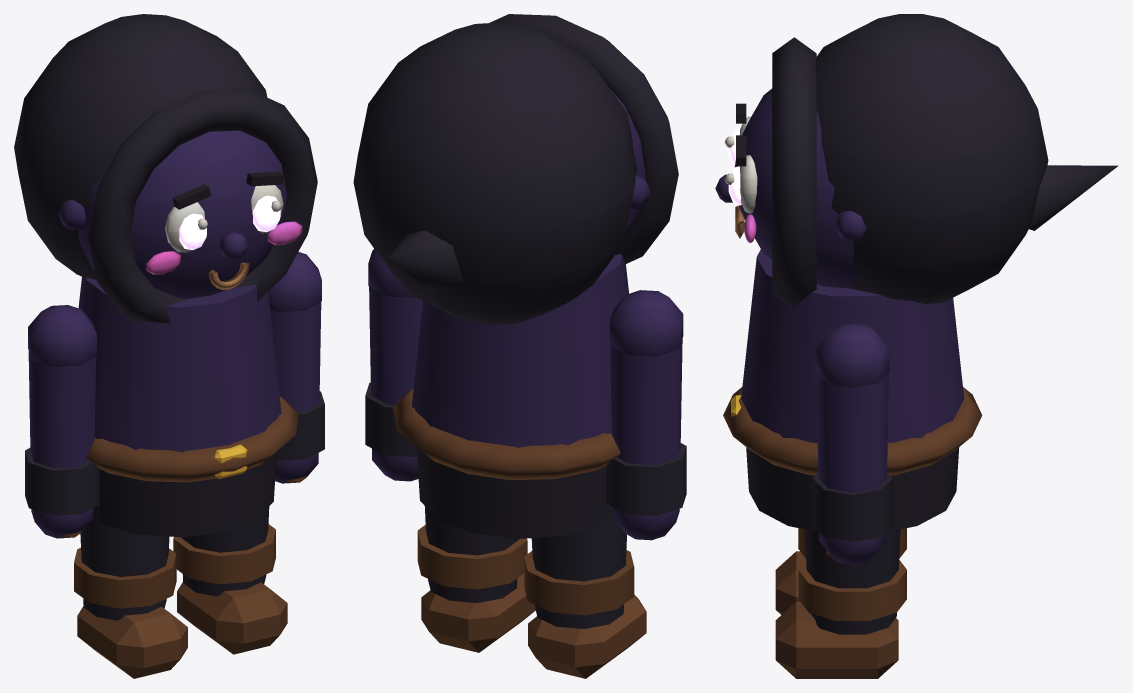
The model's file is hero_nihil.glb.
3 renders of one model, left to right at view 1: azimuth 30°, elevation 25°; view 2: azimuth 150°, elevation 25°; view 3: azimuth 270°, elevation 25°, orthographic. The views are drawn at different scales.
Visible parts, largest first — view 1: body_t0_palette, arml_t0_palette, legl_t0_palette, legr_t0_palette, armr_t0_palette, body_t0_glow_violet; view 2: body_t0_palette, arml_t0_palette, legl_t0_palette, legr_t0_palette, armr_t0_palette; view 3: body_t0_palette, armr_t0_palette, legr_t0_palette, legl_t0_palette.
Boxes of the visible parts, x1,y1,x2,y2 form: body_t0_palette: (14, 14, 317, 537); arml_t0_palette: (25, 305, 99, 538); legl_t0_palette: (74, 505, 187, 678); legr_t0_palette: (173, 507, 287, 654); armr_t0_palette: (268, 252, 324, 483); body_t0_glow_violet: (179, 195, 280, 249); body_t0_palette: (353, 14, 678, 538); arml_t0_palette: (606, 290, 686, 540); legl_t0_palette: (524, 504, 646, 678); legr_t0_palette: (417, 506, 535, 652); armr_t0_palette: (365, 249, 422, 481); body_t0_palette: (715, 14, 1118, 532); armr_t0_palette: (812, 322, 892, 565); legr_t0_palette: (775, 529, 906, 678); legl_t0_palette: (775, 528, 906, 614).
Bounding box in the file's own units: 0.27 × 0.5265 × 0.3112.
